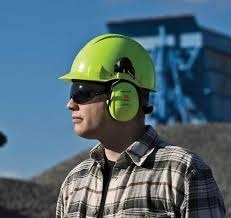helmet: (54, 32, 162, 101)
person with partial safety: (53, 31, 223, 216)
